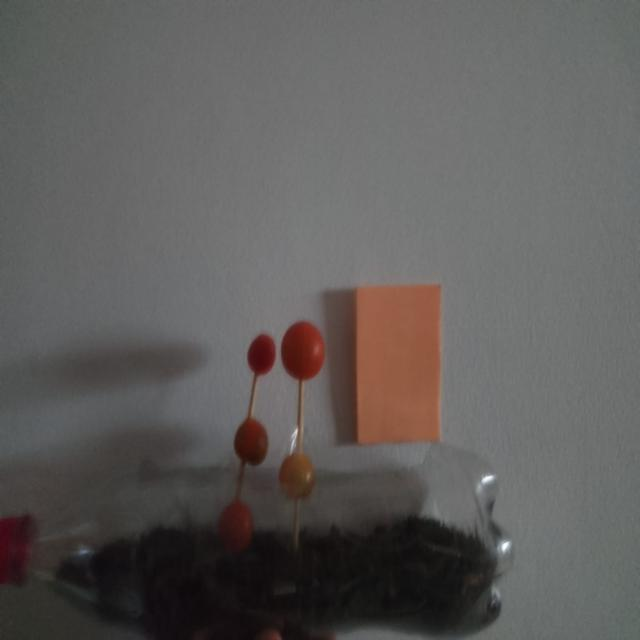fruit_maturation: (355, 285, 440, 444), (279, 453, 315, 500)
fully_grown: (280, 321, 325, 381), (248, 335, 275, 374)
